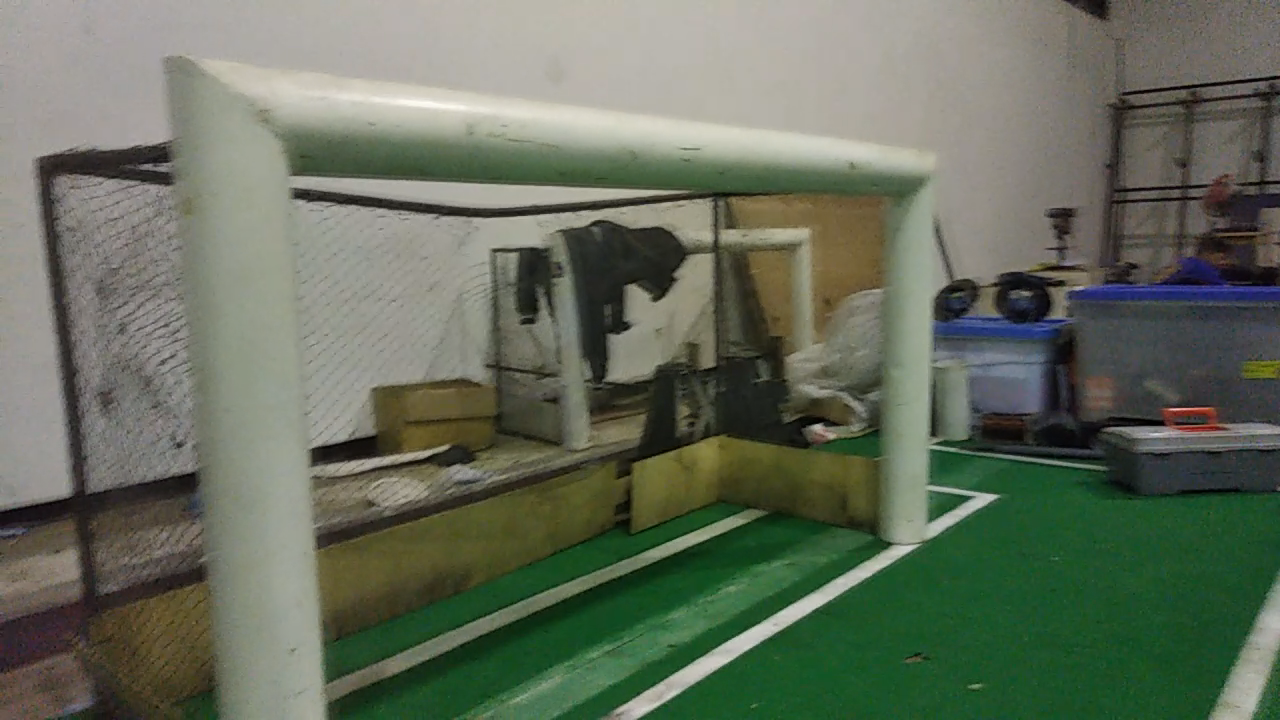gawang: (149, 38, 955, 719)
